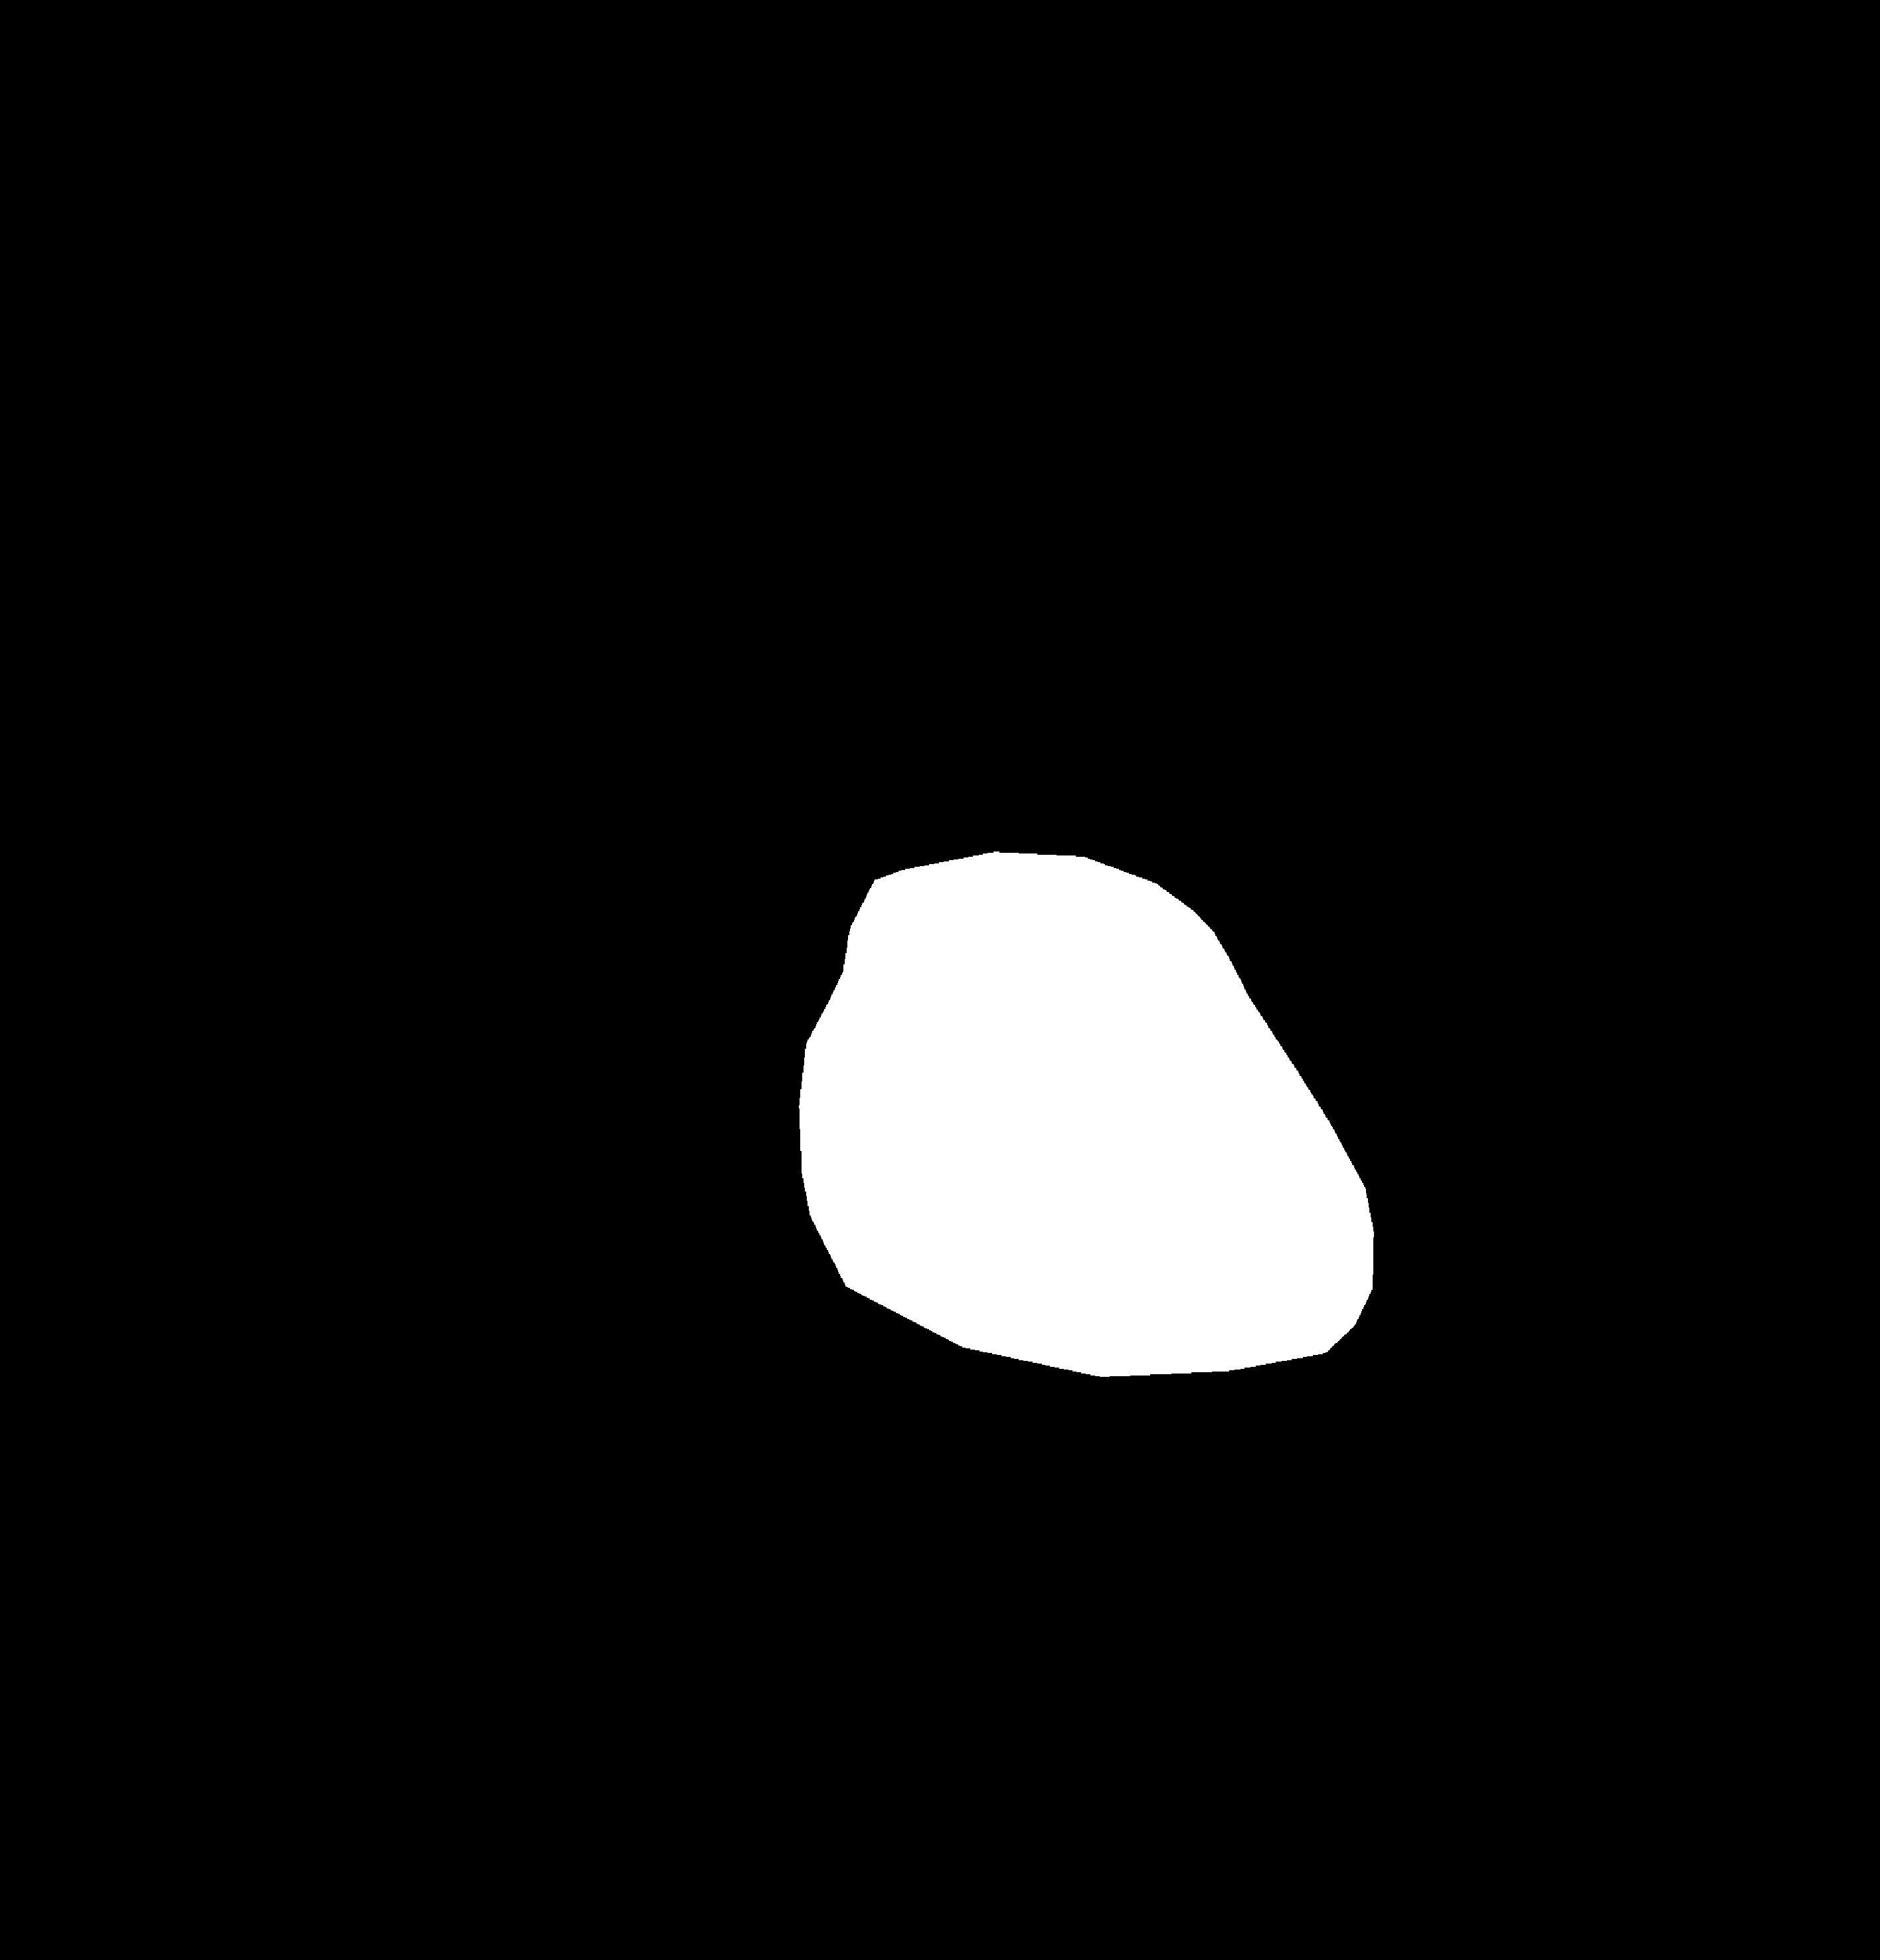heart: (798, 957, 1357, 1390)
left_lung: (249, 289, 919, 1487)
right_lung: (1047, 269, 1663, 1477)
